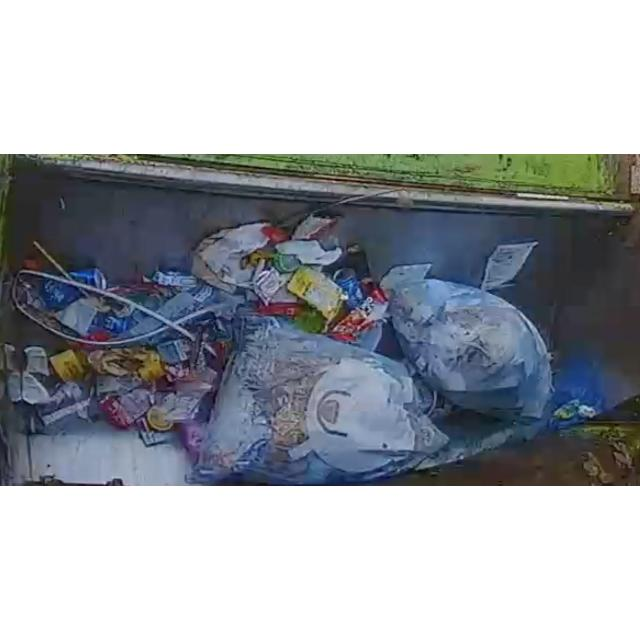other_trashbag: (195, 319, 449, 484), (381, 264, 551, 417)
